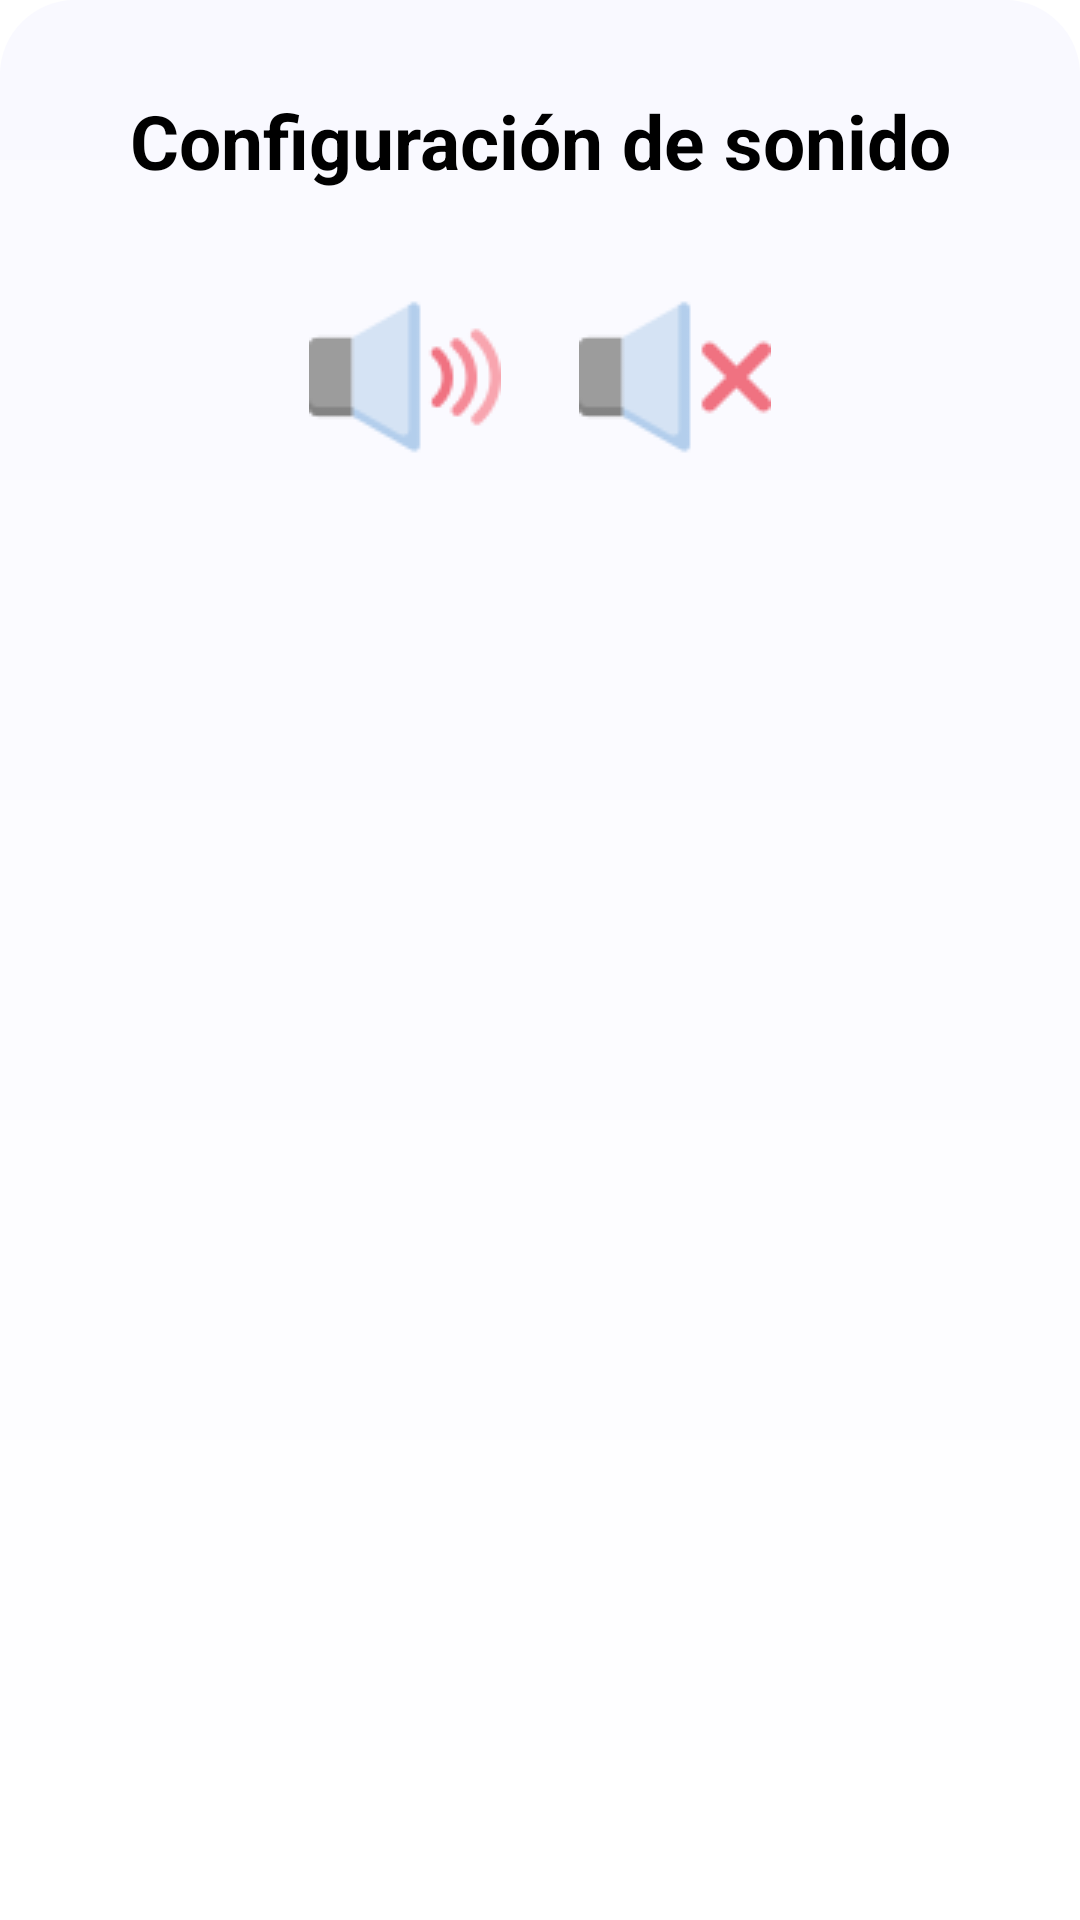

Locate icon controls on the screen. Image size 1080*1920, boxes as [x1,y1,x2,y2].
mute: [579,302,771,452]
volume: [309,302,501,452]
